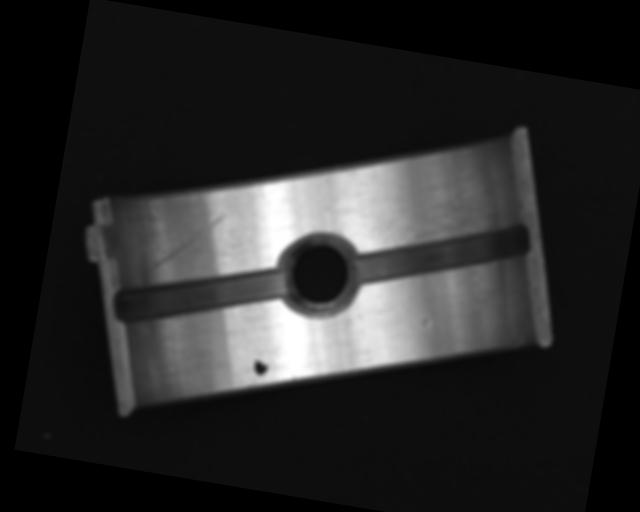blot: (252, 353, 270, 377)
bruise: (420, 317, 432, 328)
gap: (352, 199, 530, 309), (110, 244, 289, 348)
hole: (276, 230, 362, 323)
nick: (151, 201, 226, 280)
scratch: (362, 153, 515, 267)
